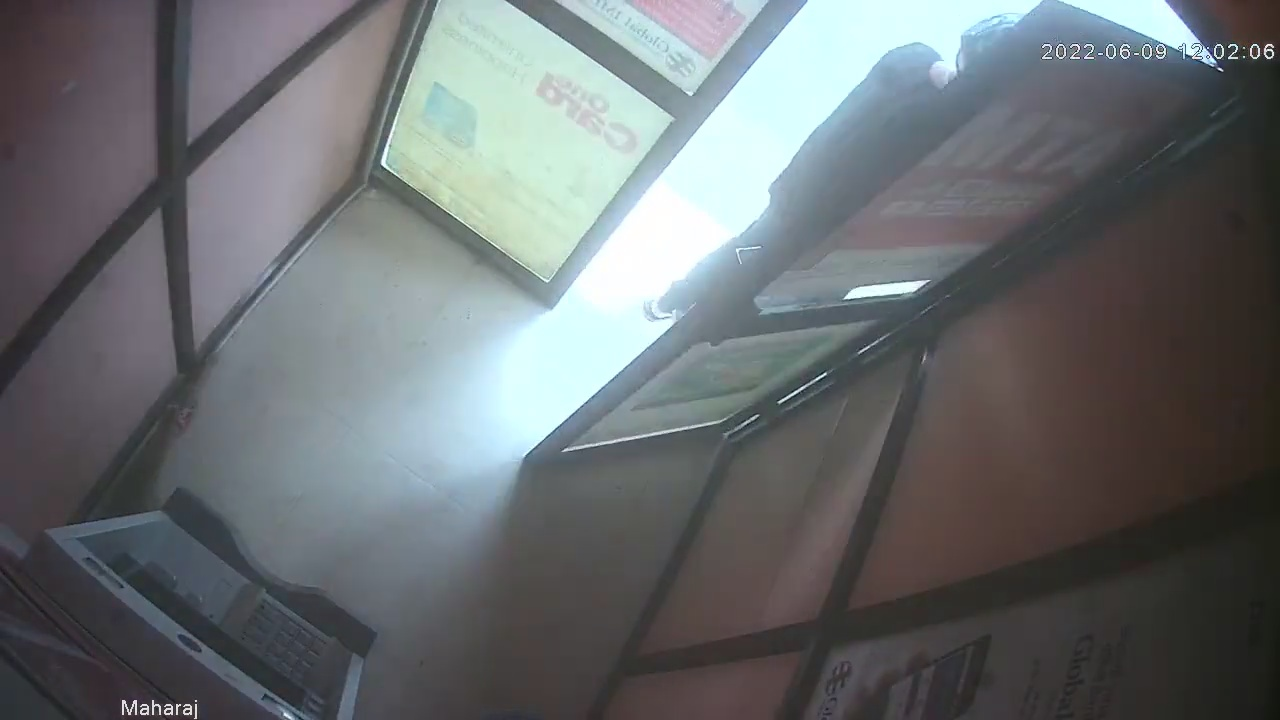helmet: (957, 14, 1027, 72)
person: (638, 11, 1012, 322)
